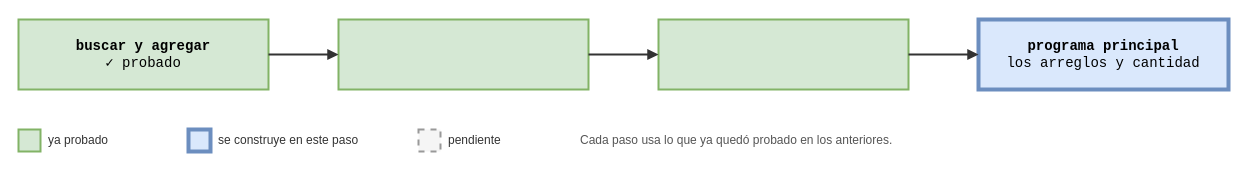
Some shapes in this 1247 by 172 pixel diagram are drawn without their labels. Each missing label, with the centre of its shape:
"eliminar, actualizar, listar ✓ probado" belongs at (463,54).
"ordenar ✓ probado" belongs at (783,54).
